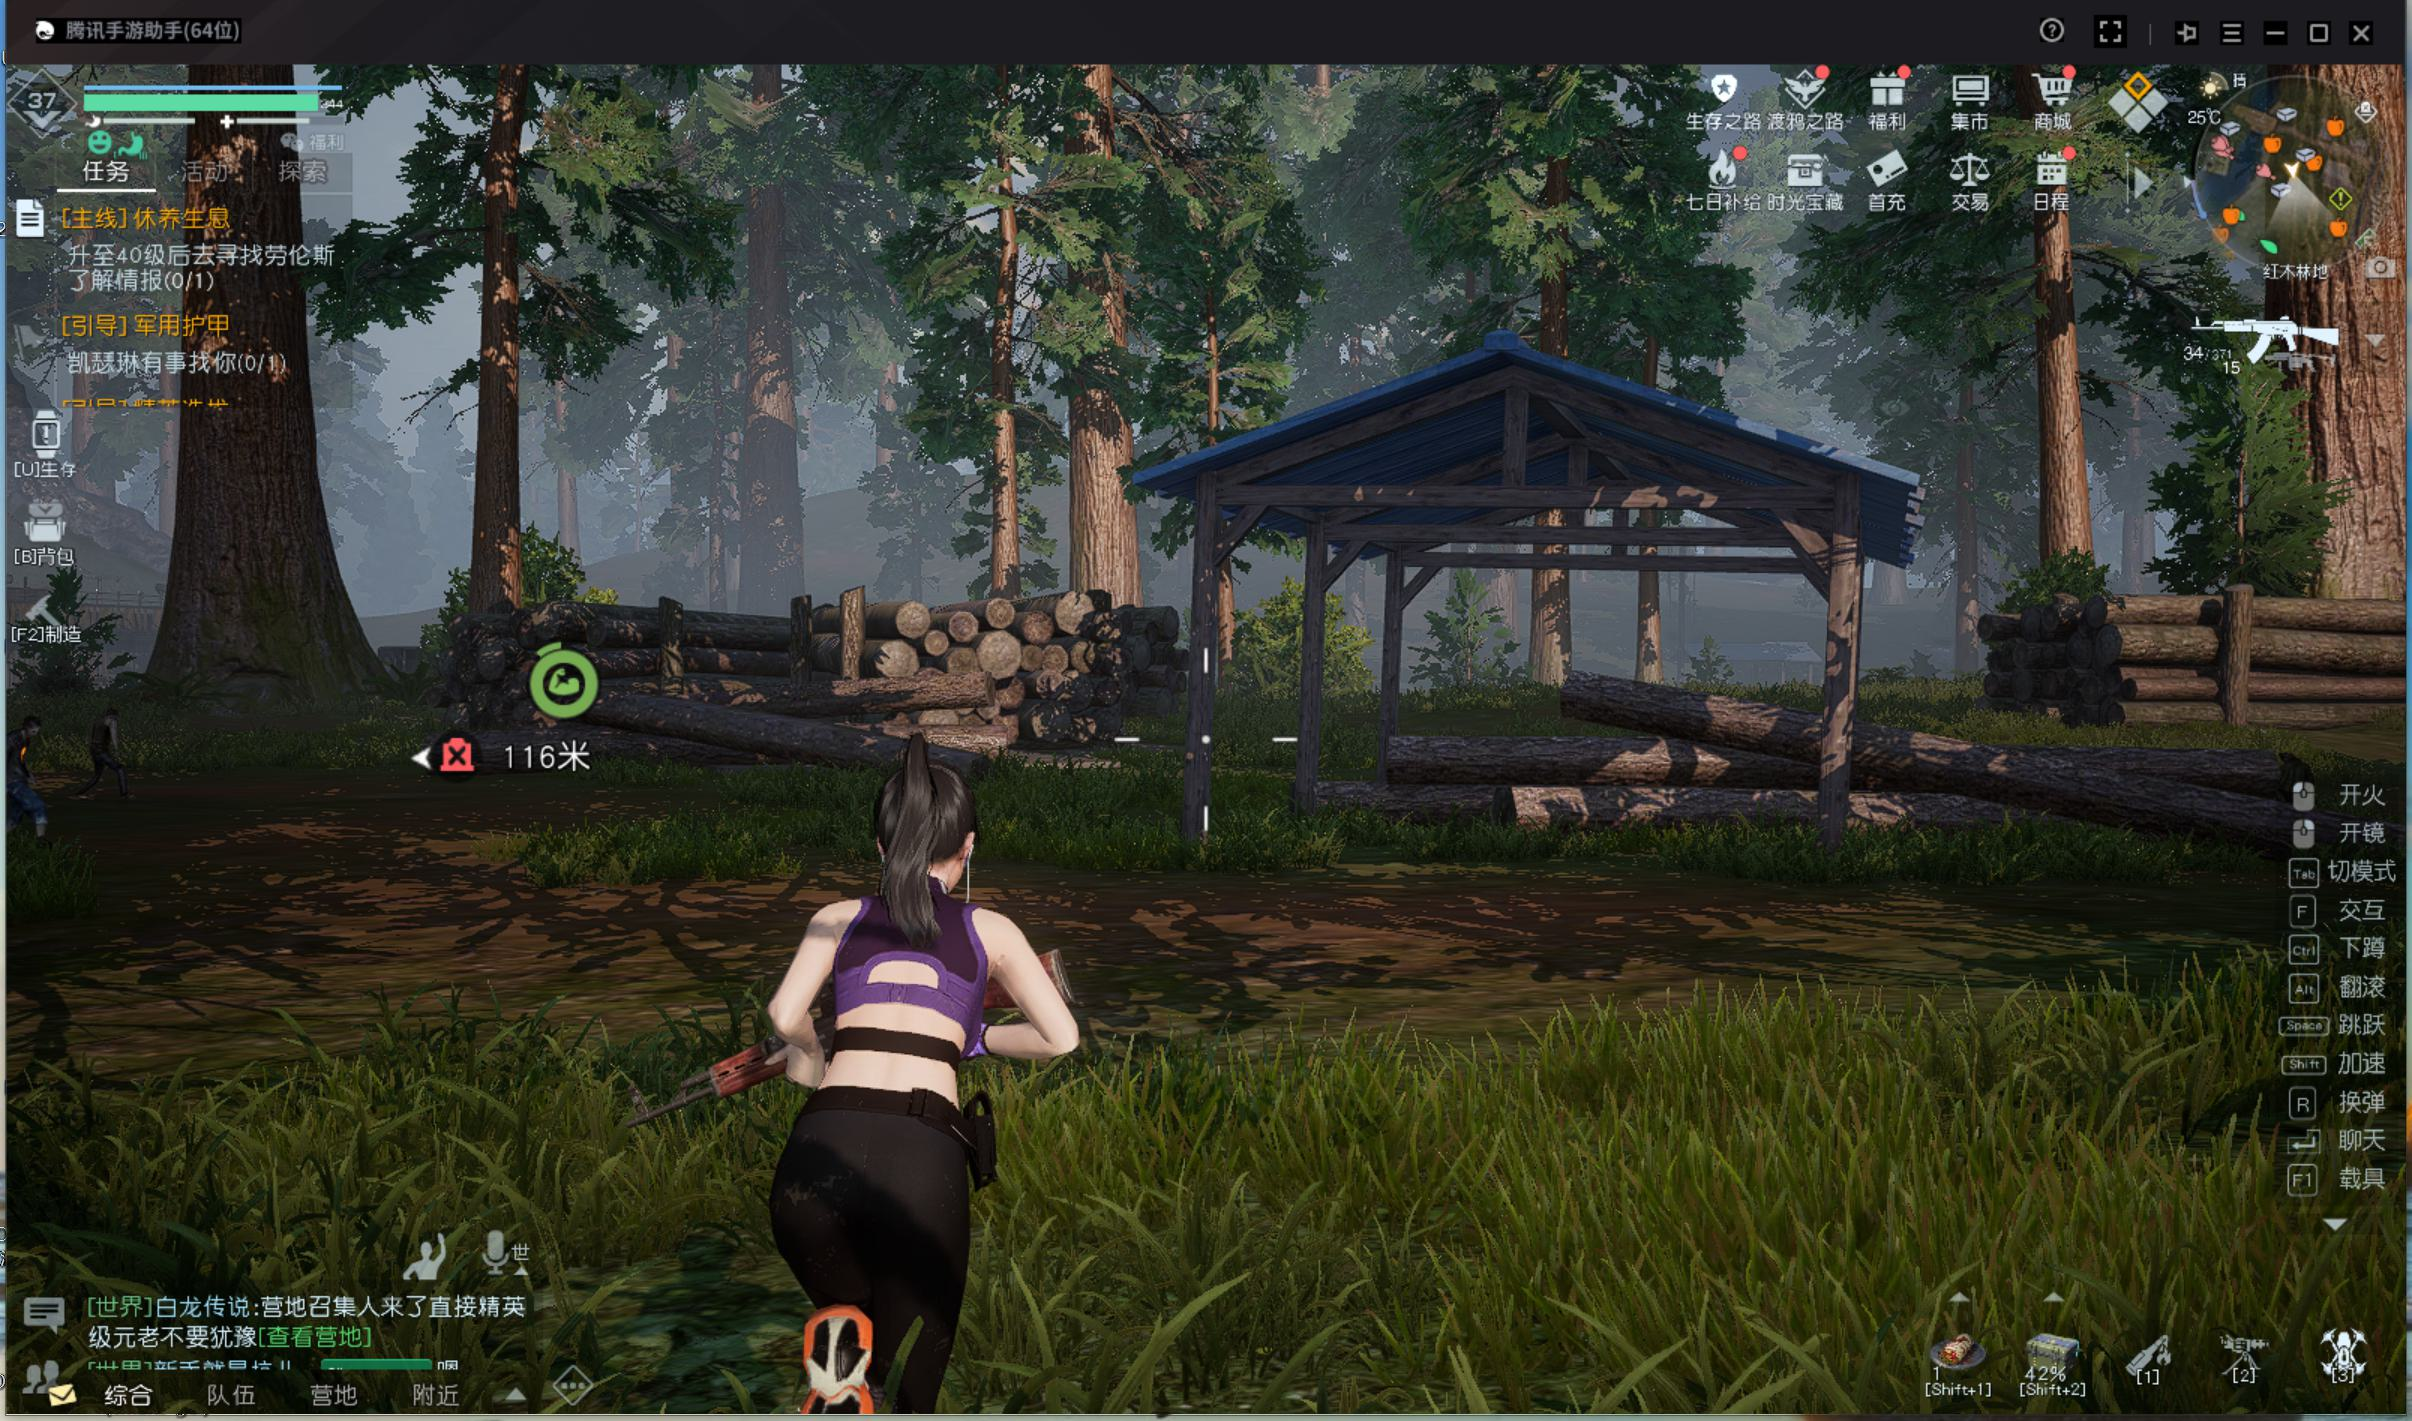tree: (147, 161, 372, 710), (445, 227, 540, 672), (2030, 255, 2119, 707), (467, 223, 529, 695), (1050, 333, 1138, 643), (743, 277, 803, 646), (974, 315, 1027, 643)
